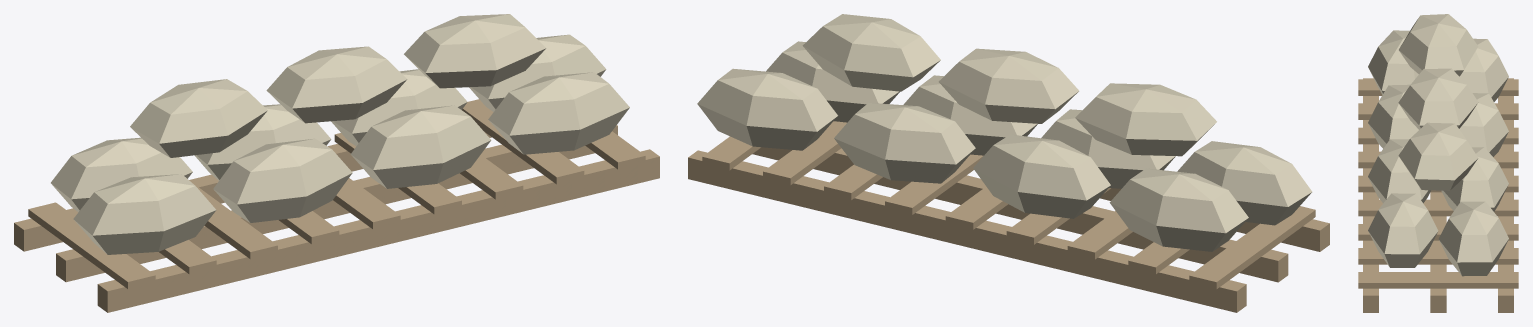
Rendered from furn_pallet_sacks.fbx.
3 renders of one model, left to right at view 1: azimuth 30°, elevation 25°; view 2: azimuth 150°, elevation 25°; view 3: azimuth 270°, elevation 25°, orthographic. The views are drawn at different scales.
Visible parts, largest first — view 1: furn_pallet_sacks; view 2: furn_pallet_sacks; view 3: furn_pallet_sacks.
Boxes of the visible parts, x1,y1,x2,y2 form: furn_pallet_sacks: (14, 14, 659, 312); furn_pallet_sacks: (688, 14, 1329, 312); furn_pallet_sacks: (1358, 14, 1518, 312).
Size of the model in its own units: 3.23 by 0.87 by 1.
